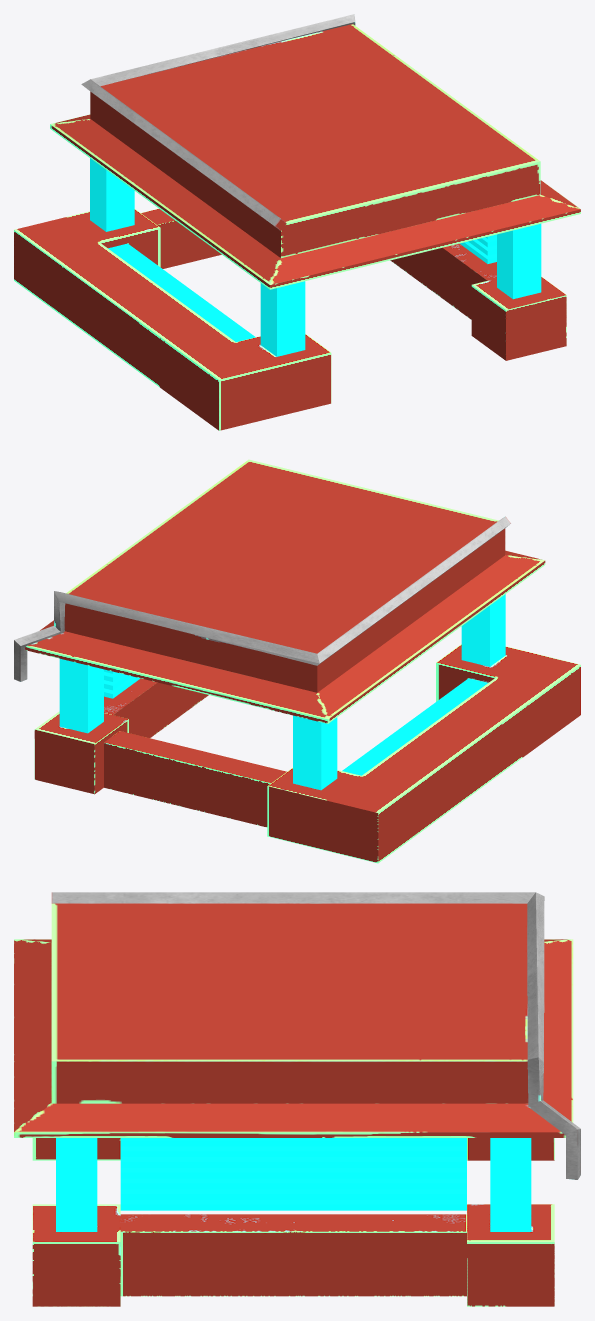
The model's file is foodstand.glb.
3 views of the same model, one above another, from view 1: azimuth 30°, elevation 25°; view 2: azimuth 150°, elevation 25°; view 3: azimuth 270°, elevation 25° (orthographic). The views are drawn at different scales.
Visible parts, largest first — view 1: foodstand, Object, Object107, Object109, Object103, Object093; view 2: foodstand, Object, Object107, Object109, Object103, Object093; view 3: foodstand, Object107, Object093, Object109, Object.
Part boxes in pixels (x1=…): foodstand: x1=50, y1=14, x2=580, y2=289; Object: x1=14, y1=209, x2=331, y2=430; Object107: x1=141, y1=208, x2=566, y2=360; Object109: x1=90, y1=158, x2=541, y2=356; Object103: x1=108, y1=243, x2=255, y2=341; Object093: x1=460, y1=234, x2=496, y2=263; foodstand: x1=14, y1=459, x2=545, y2=723; Object: x1=267, y1=644, x2=580, y2=863; Object107: x1=34, y1=678, x2=286, y2=827; Object109: x1=59, y1=594, x2=505, y2=790; Object103: x1=342, y1=678, x2=487, y2=775; Object093: x1=104, y1=669, x2=140, y2=698; foodstand: x1=14, y1=892, x2=580, y2=1179; Object107: x1=32, y1=1204, x2=554, y2=1306; Object093: x1=120, y1=1138, x2=466, y2=1210; Object109: x1=56, y1=1138, x2=531, y2=1231; Object: x1=32, y1=1138, x2=554, y2=1160.
Size of what is drawn, in the model's own units: 7.39 by 3.73 by 7.93.
4 materials, 3 textured.
